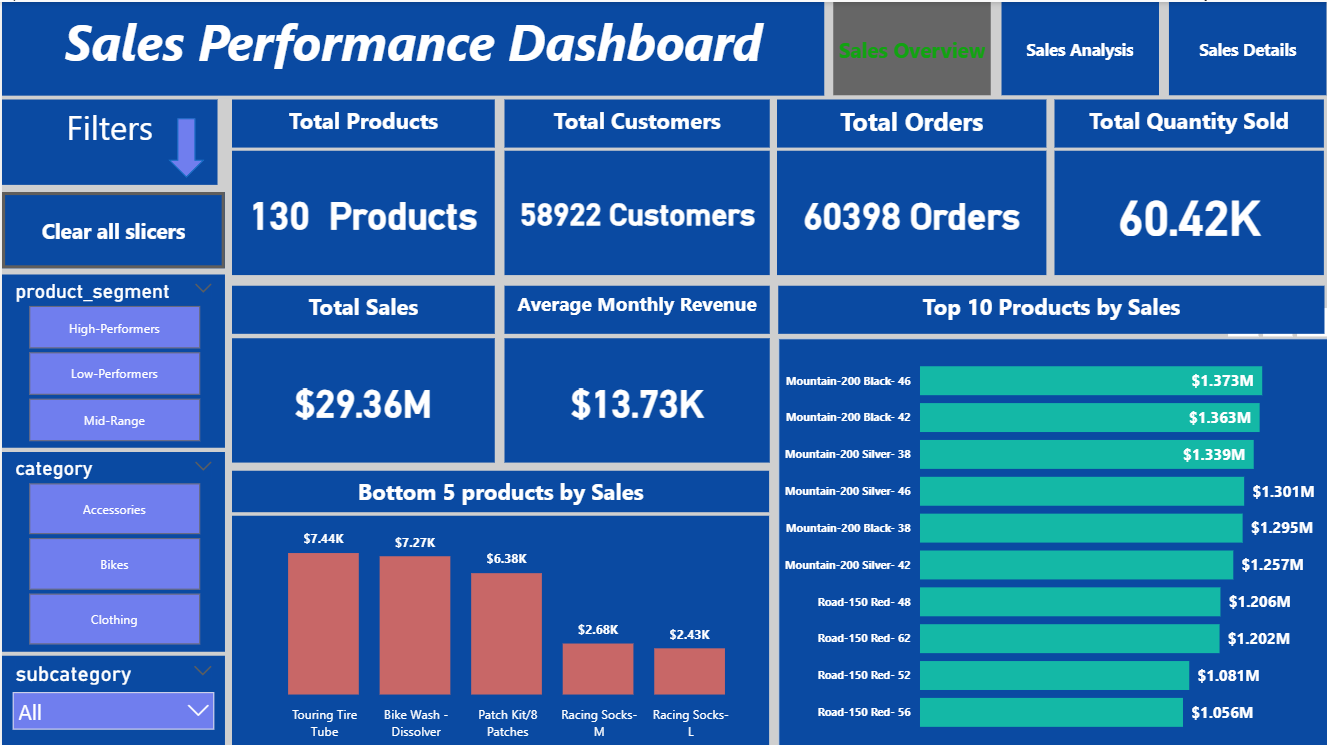

This screenshot's page, from the dashboard's own definition file:
{"tool":"powerbi","page":{"name":"Sales Overview","canvas":[1280,720],"ordinal":0},"visuals":[{"type":"slicer","fields":{"Values":["Data.category"]},"box":[0,434.5,215,192.5],"z":0},{"type":"textbox","box":[0,0,793.8,90],"z":1000,"group":"g2"},{"type":"slicer","fields":{"Values":["Data.product_segment"]},"box":[0,263.2,215,167.5],"z":1000},{"type":"slicer","fields":{"Values":["Data.subcategory"]},"box":[0,631.2,215,88.8],"z":2000},{"type":"group","id":"g1","title":"Group 1","box":[0,93.5,208,82.5],"z":3000},{"type":"group","id":"g2","title":"Group 1","box":[0,0,793.8,90],"z":4000},{"type":"actionButton","box":[0,183.8,215,73.8],"z":5000},{"type":"card","title":"total Sales","fields":{"Values":["measures .Number_of_products"]},"box":[222.5,143.8,253.8,120],"z":6000},{"type":"textbox","box":[222.5,93.8,253.8,46.2],"z":7000},{"type":"card","title":"total Sales","fields":{"Values":["measures .Number_of_customers"]},"box":[485,143.8,256.2,120],"z":8000},{"type":"textbox","box":[485,93.8,256.2,46.2],"z":9000},{"type":"card","title":"total Sales","fields":{"Values":["measures .Number_of_Orders"]},"box":[747.5,143.8,260,120],"z":10000},{"type":"textbox","box":[747.5,93.8,260,46.2],"z":11000},{"type":"card","title":"total Sales","fields":{"Values":["measures .Total_Quantity"]},"box":[1016.2,143.8,260,120],"z":12000},{"type":"textbox","box":[1016.2,93.8,260,46.2],"z":13000},{"type":"card","title":"total Sales","fields":{"Values":["measures .Total_Sales"]},"box":[222.5,325,253.8,120],"z":14000},{"type":"card","title":"total Sales","fields":{"Values":["measures .Avg(avg_moth_rev)"]},"box":[485,325,256.2,120],"z":15000},{"type":"textbox","box":[222.5,273.8,253.8,46],"z":16000},{"type":"textbox","box":[485,273.8,256.2,46.2],"z":17000},{"type":"columnChart","fields":{"Category":["Data.product_name"],"Y":["measures .Total_Sales"]},"box":[222.5,496.2,518.8,223.8],"z":18000},{"type":"textbox","box":[222.5,452.5,518.8,40],"z":19000},{"type":"barChart","fields":{"Category":["Data.product_name"],"Y":["measures .Total_Sales"]},"box":[748.8,325,531.2,395],"z":20000},{"type":"textbox","box":[0,93.5,208,82.5],"z":20502,"group":"g1"},{"type":"textbox","box":[748.8,273.8,527.5,46.2],"z":21000},{"type":"shape","box":[160,111.6,35,57.5],"z":21002,"group":"g1"},{"type":"pageNavigator","box":[802.1,0,478.2,90.5],"z":22000}]}

Visuals, with their boxes in screenshot pixels (x1, y1, x2, y2), scaled from the page's 1280x720 canvas onto the 1327x745 screenshot:
slicer - Data.category: (x1=0, y1=450, x2=223, y2=649)
textbox: (x1=0, y1=0, x2=823, y2=93)
slicer - Data.product_segment: (x1=0, y1=272, x2=223, y2=446)
slicer - Data.subcategory: (x1=0, y1=653, x2=223, y2=744)
"Group 1" group: (x1=0, y1=97, x2=216, y2=182)
"Group 1" group: (x1=0, y1=0, x2=823, y2=93)
actionButton: (x1=0, y1=190, x2=223, y2=267)
"total Sales" card: (x1=231, y1=149, x2=494, y2=273)
textbox: (x1=231, y1=97, x2=494, y2=145)
"total Sales" card: (x1=503, y1=149, x2=768, y2=273)
textbox: (x1=503, y1=97, x2=768, y2=145)
"total Sales" card: (x1=775, y1=149, x2=1044, y2=273)
textbox: (x1=775, y1=97, x2=1044, y2=145)
"total Sales" card: (x1=1054, y1=149, x2=1323, y2=273)
textbox: (x1=1054, y1=97, x2=1323, y2=145)
"total Sales" card: (x1=231, y1=336, x2=494, y2=460)
"total Sales" card: (x1=503, y1=336, x2=768, y2=460)
textbox: (x1=231, y1=283, x2=494, y2=331)
textbox: (x1=503, y1=283, x2=768, y2=331)
columnChart - Data.product_name x measures .Total_Sales: (x1=231, y1=513, x2=769, y2=744)
textbox: (x1=231, y1=468, x2=769, y2=510)
barChart - Data.product_name x measures .Total_Sales: (x1=776, y1=336, x2=1326, y2=744)
textbox: (x1=0, y1=97, x2=216, y2=182)
textbox: (x1=776, y1=283, x2=1323, y2=331)
shape: (x1=166, y1=115, x2=202, y2=175)
pageNavigator: (x1=832, y1=0, x2=1326, y2=94)
